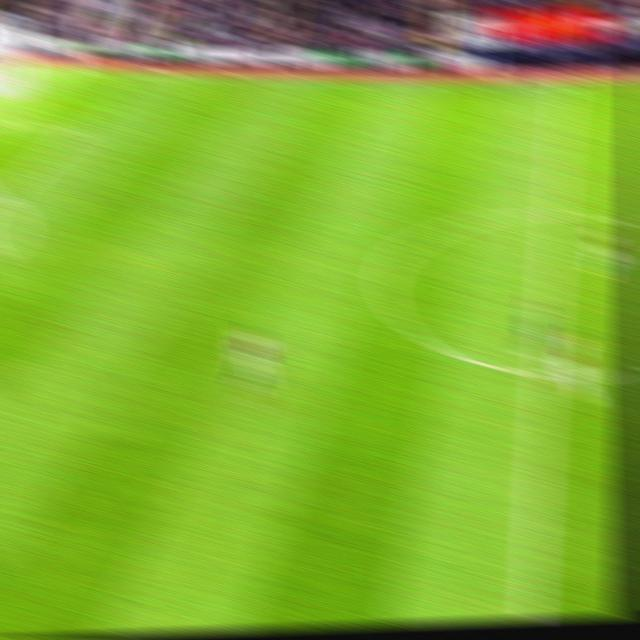bigarea_top_inner: (64, 116, 95, 143)
halfcircle_bottom: (528, 355, 564, 392)
halfcircle_top: (536, 195, 578, 233)
midline_top_intersection: (550, 70, 581, 98)
top_arc_area_intersection: (0, 180, 18, 207)
